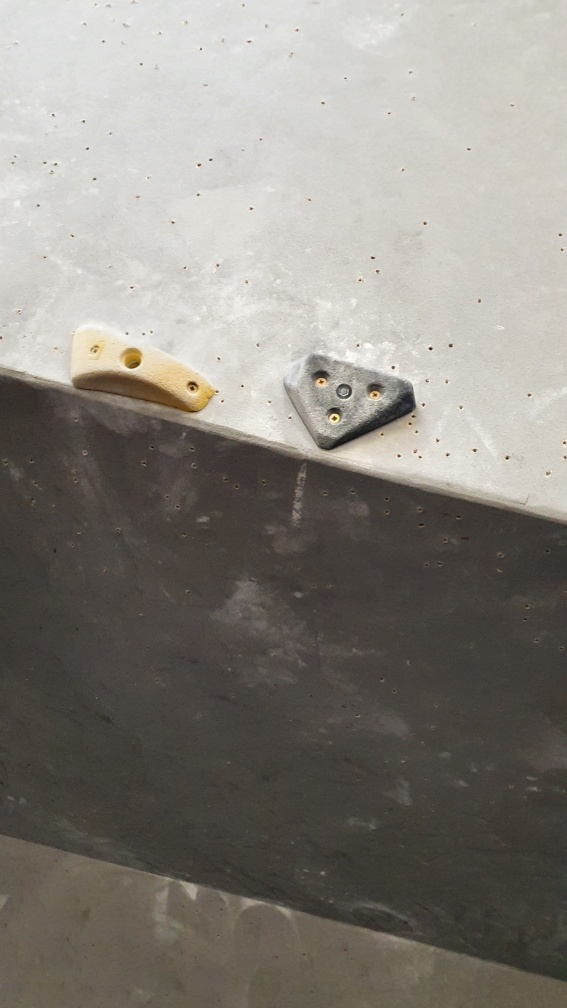Crimp: (281, 349, 423, 452)
Pinch: (67, 322, 219, 418)
